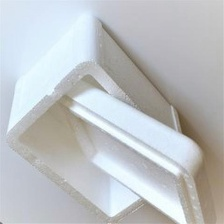foam_box: (0, 10, 224, 224)
